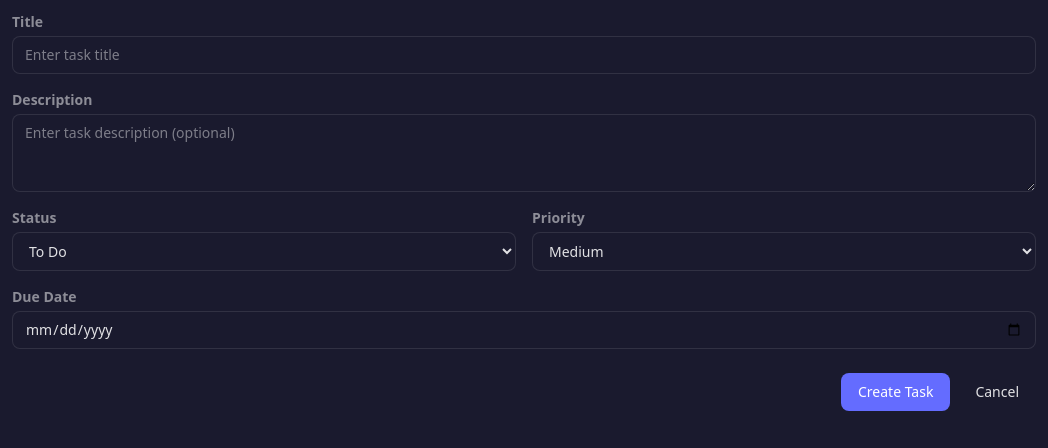
Test: TaskForm › shows validation error when submitting empty title
Click the button "Create Task".
click(896, 392)  # box left=841, top=373, right=950, bottom=411
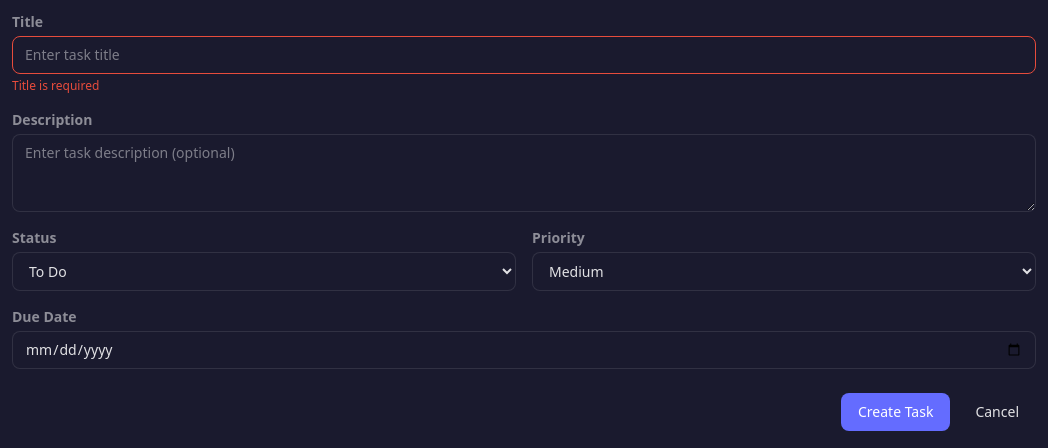
expect the text "Title is required" is shown: met, box left=12, top=77, right=99, bottom=94
